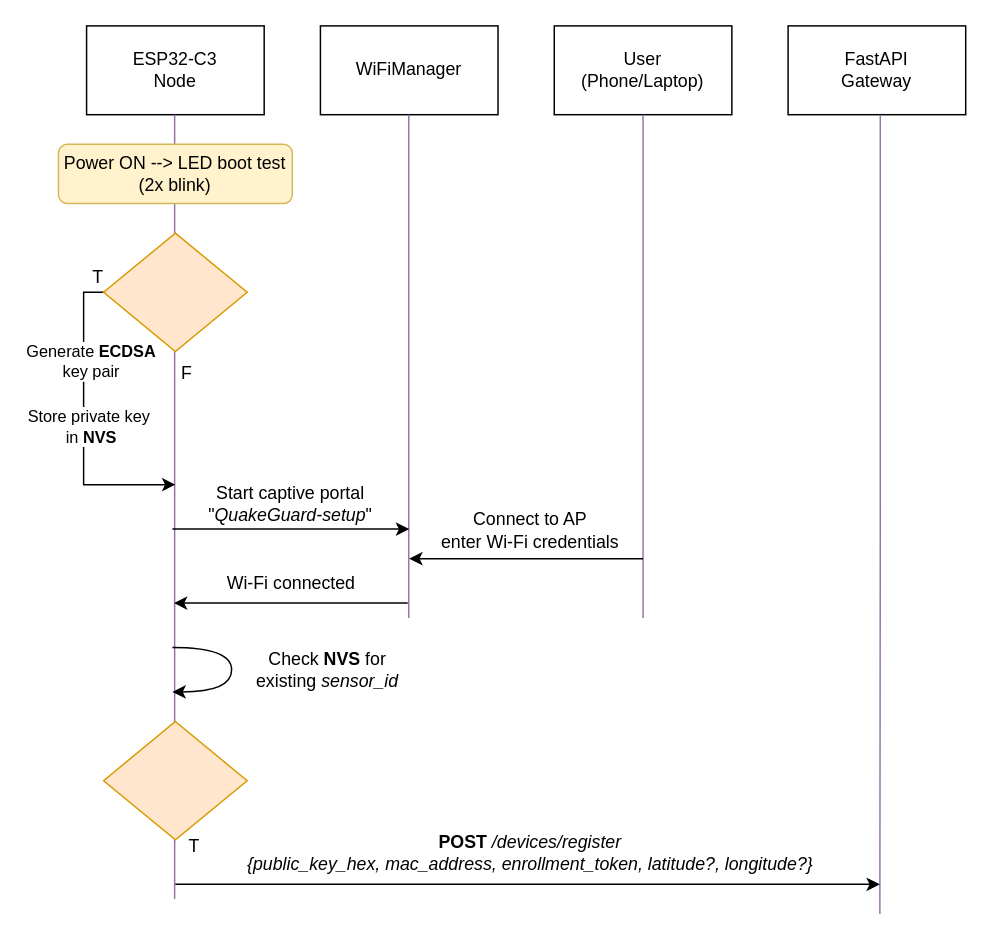
Image size: 992x941. Some labels were removed from this diagram. Each missing label, with the centre of its shape:
First Boot: [174,292]
sensor_id = 0: [174,780]
